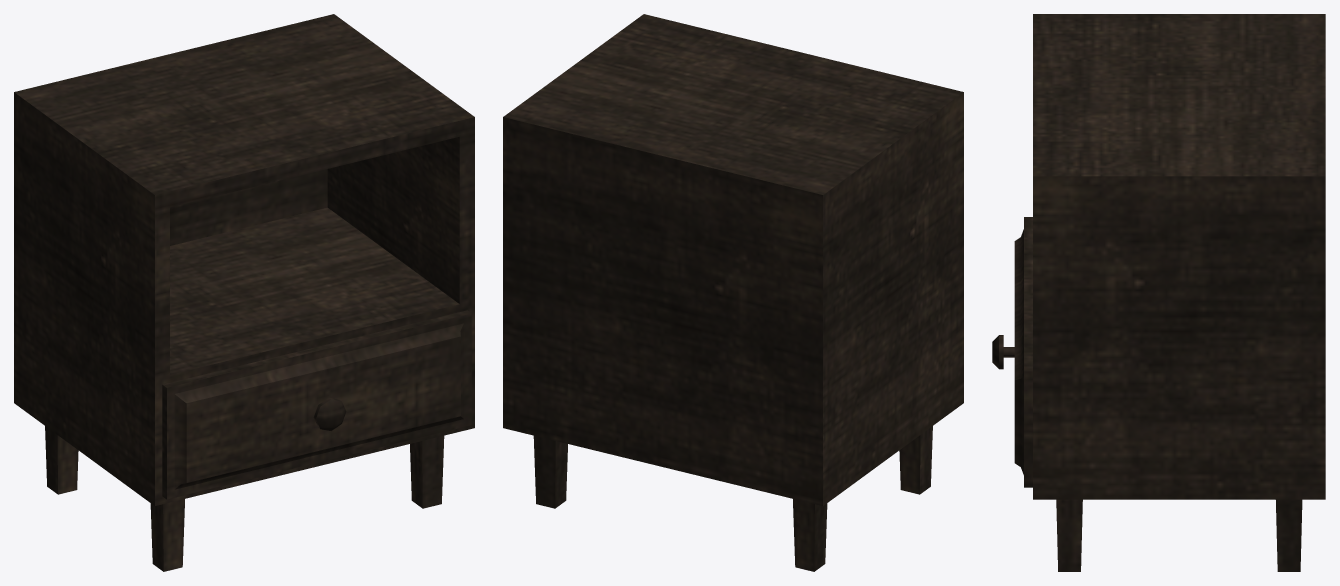
Rendered from bedside_table_2_2.obj.
3 renders of one model, left to right at view 1: azimuth 30°, elevation 25°; view 2: azimuth 150°, elevation 25°; view 3: azimuth 270°, elevation 25°, orthographic. The views are drawn at different scales.
Parts seen in each view (by area): view 1: bedside_table_2_2, bedside_table_2_2_drawer; view 2: bedside_table_2_2; view 3: bedside_table_2_2, bedside_table_2_2_drawer.
Boxes of the visible parts, <box> form: bedside_table_2_2: <box>14,14,474,571</box>; bedside_table_2_2_drawer: <box>162,310,471,499</box>; bedside_table_2_2: <box>503,14,963,571</box>; bedside_table_2_2: <box>1033,14,1325,571</box>; bedside_table_2_2_drawer: <box>992,217,1032,487</box>.
Size of the model in its own units: 0.504 by 0.588 by 0.4374.
